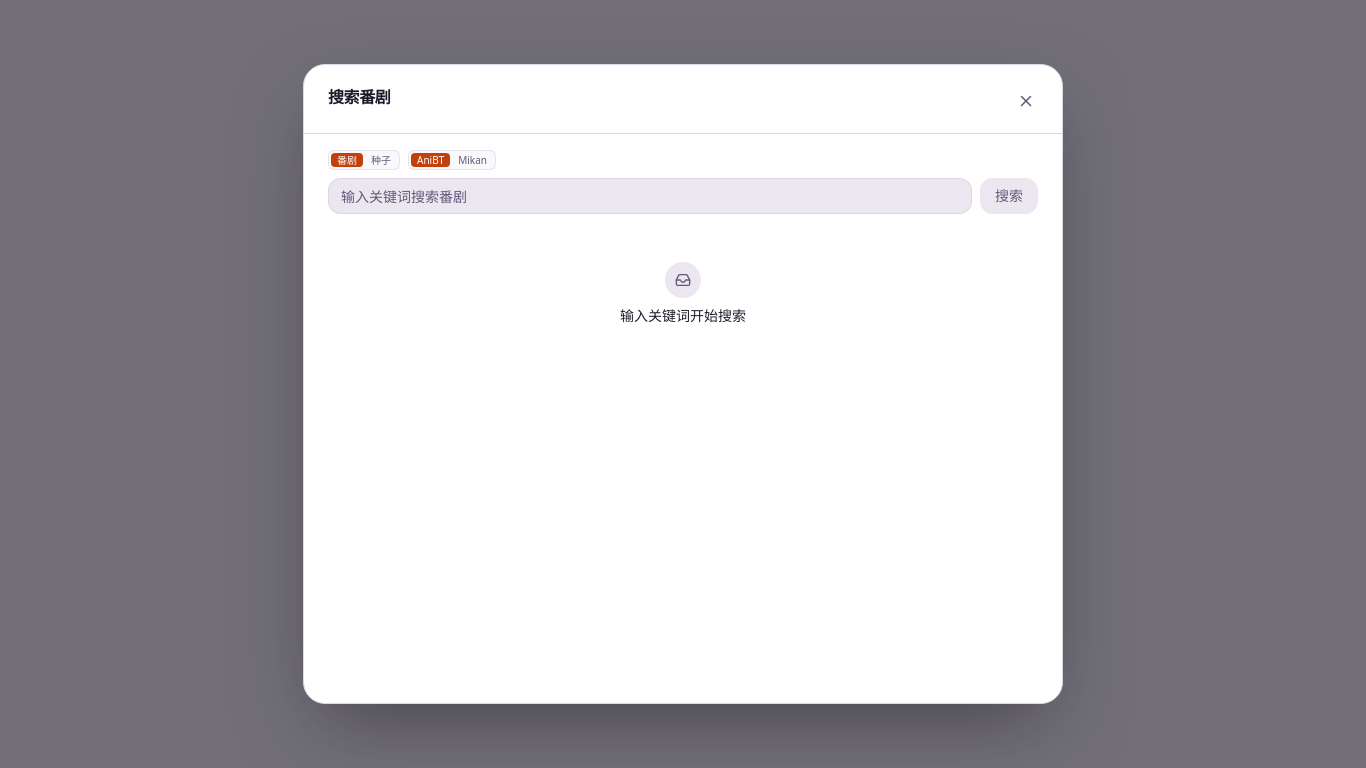
Scenario: GlobalSearchDialog（顶栏全局搜索） › 搜索中显示 busy 状态
Type "慢响应" into the field with placeholder "输入关键词搜索番剧" at (650,196), box [328,178,972,214]
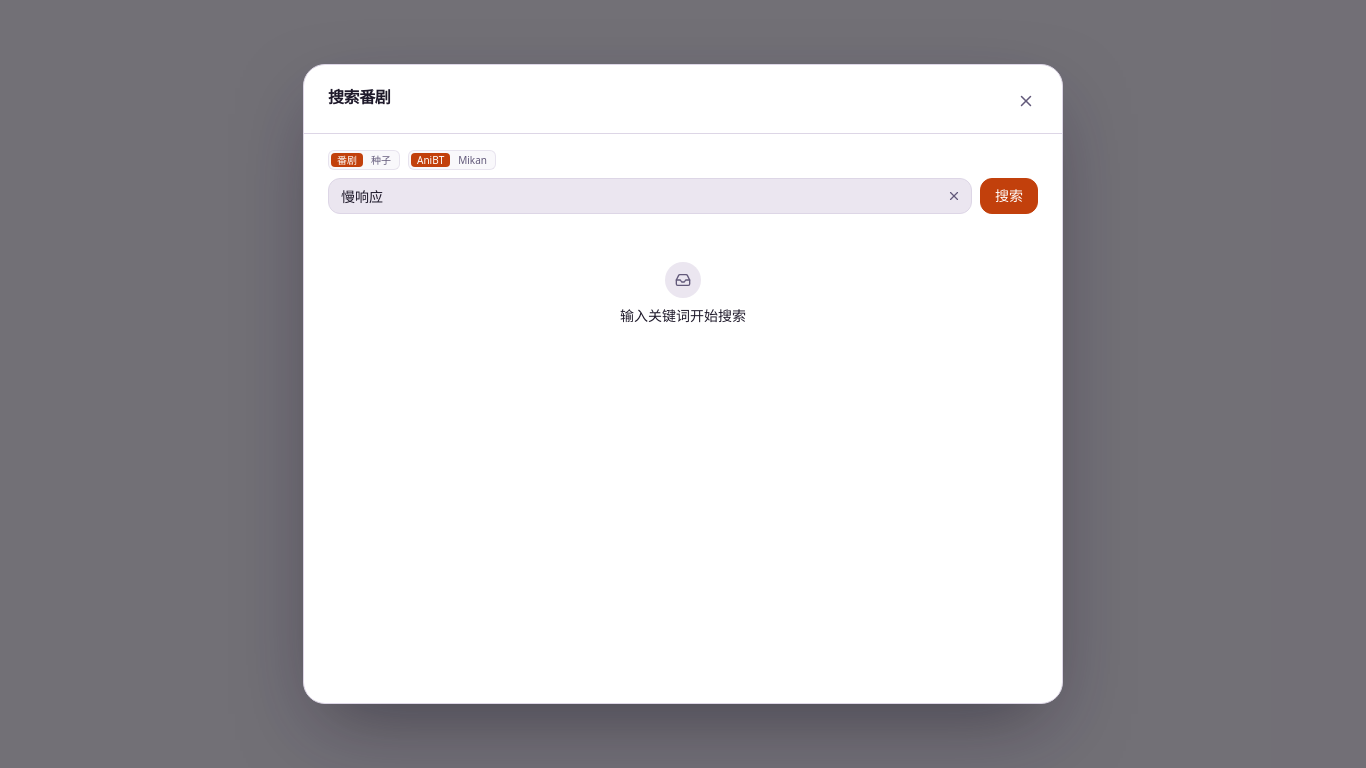
Submit the form with placeholder "输入关键词搜索番剧", box [328,178,1038,214]
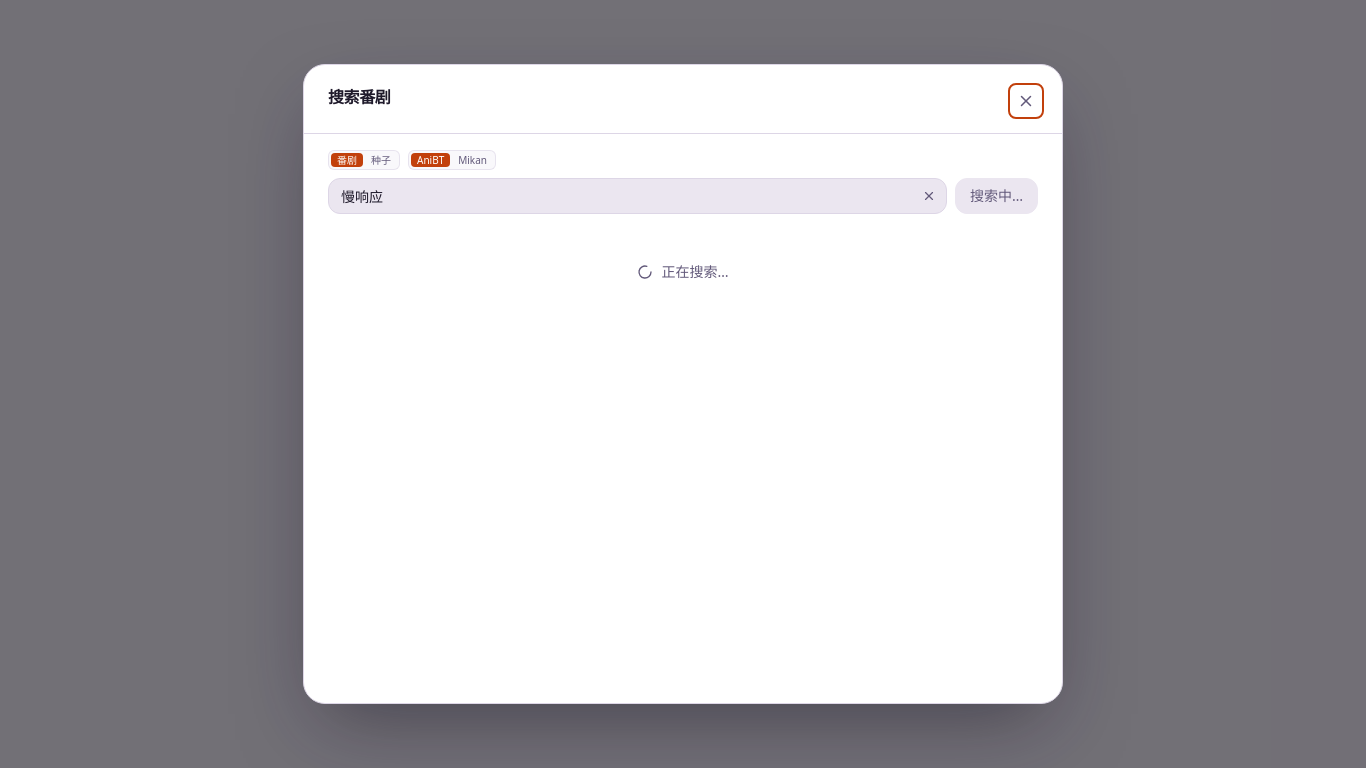
Now the text "正在搜索…" is shown, box [638,262,729,282]
